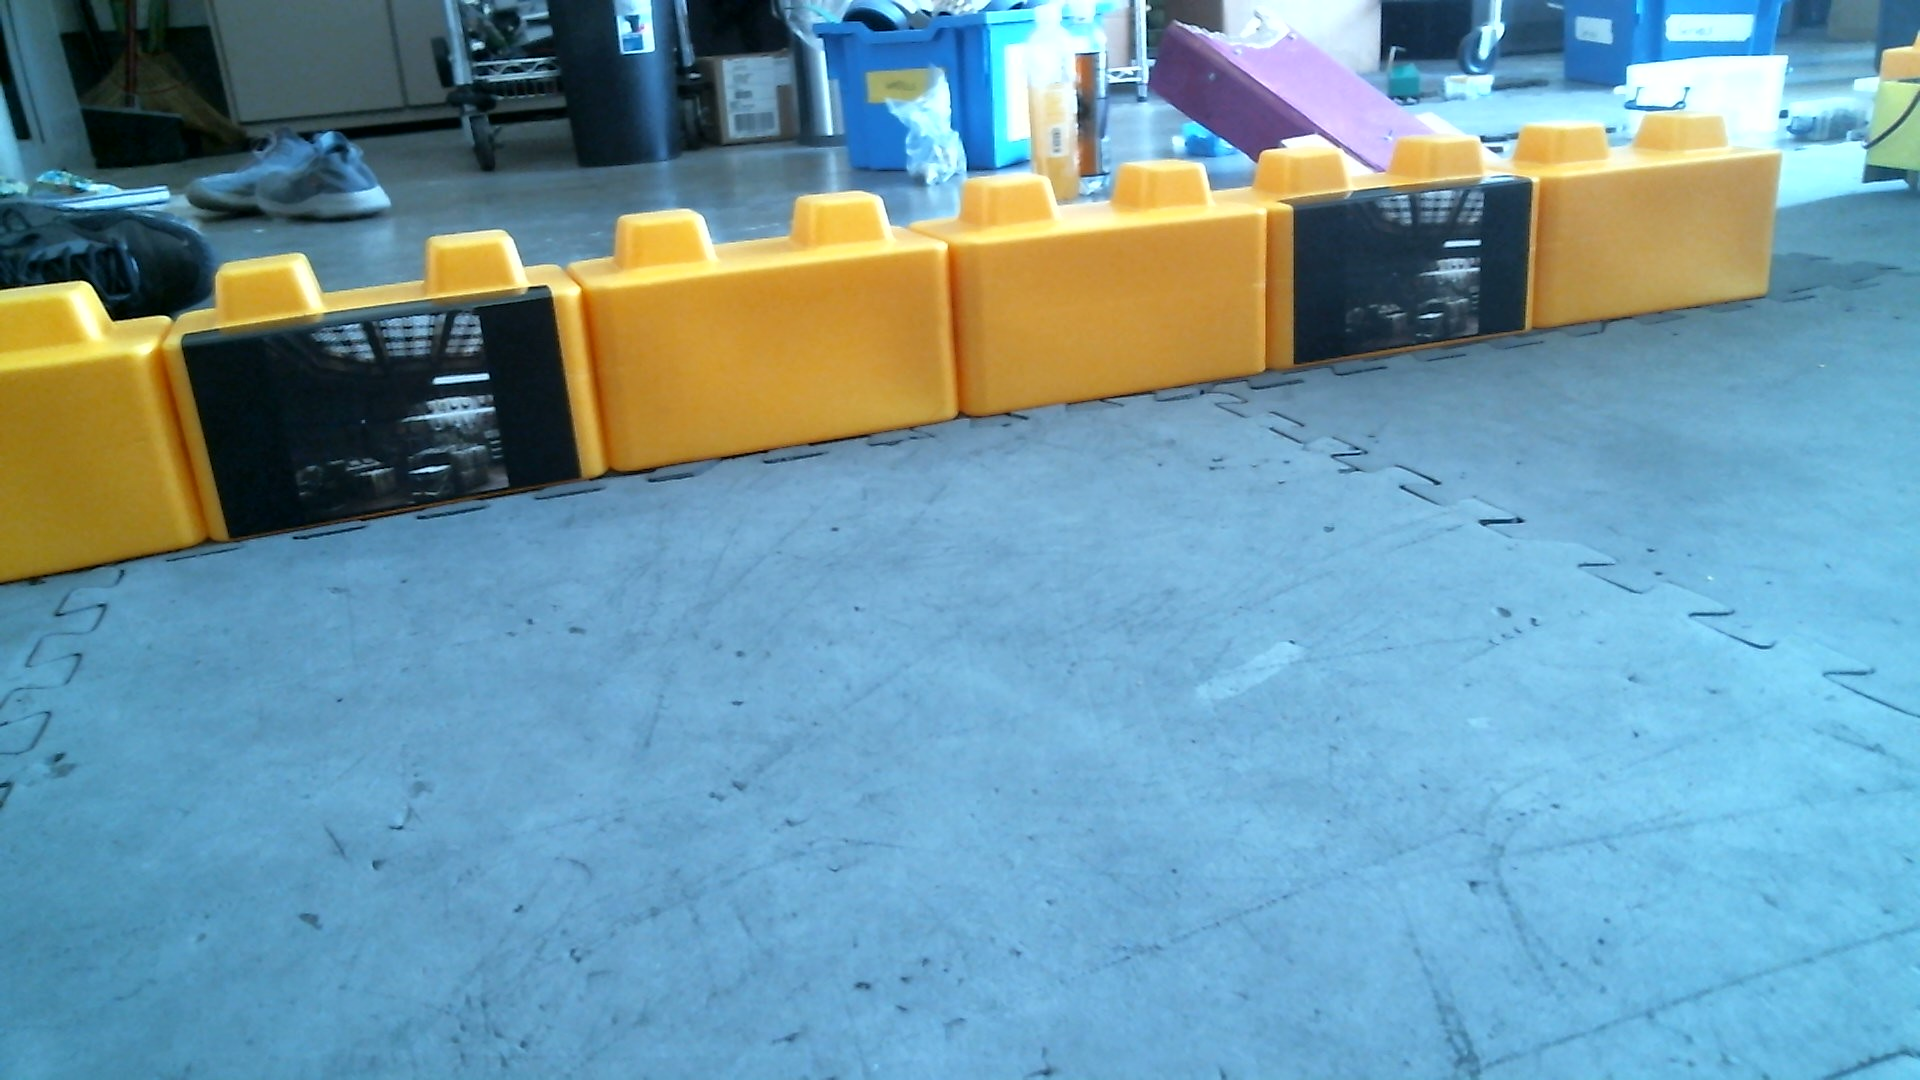skystone: (175, 281, 609, 531), (1279, 169, 1547, 356)
stone: (589, 204, 959, 456), (955, 187, 1274, 404), (7, 280, 179, 608), (1538, 123, 1771, 324)
